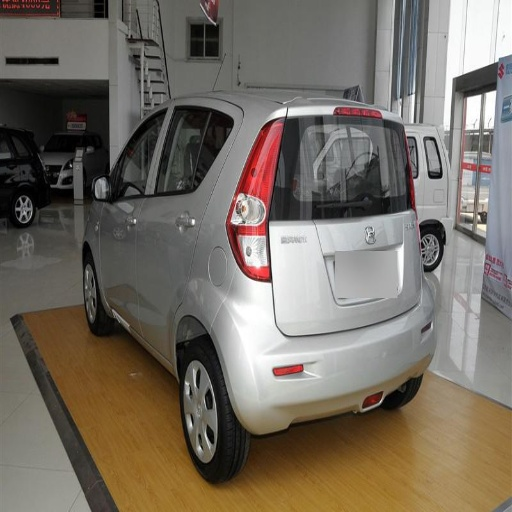back_bumper: (211, 273, 436, 433)
back_glass: (313, 146, 389, 198)
back_left_door: (141, 106, 210, 348)
tailgate: (328, 260, 408, 312)
trunk: (241, 184, 418, 332)
